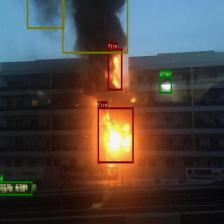fire: (98, 107, 133, 163), (108, 49, 122, 90)
smoke: (61, 0, 128, 53), (26, 0, 64, 28)
